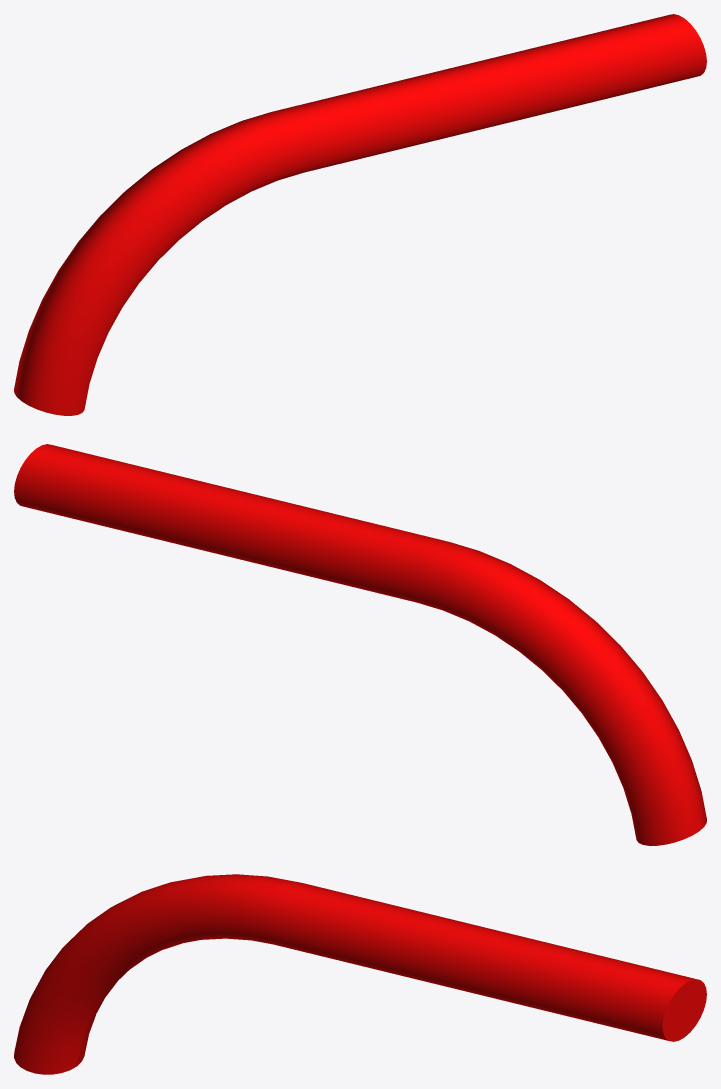
File: original-51.obj
3 views of the same model, one above another, from view 1: azimuth 30°, elevation 25°; view 2: azimuth 150°, elevation 25°; view 3: azimuth 330°, elevation 25° (orthographic).
Visible parts, largest first — view 1: Group37/mesh56/mesh56-geometry#mesh56-geometry; view 2: Group37/mesh56/mesh56-geometry#mesh56-geometry; view 3: Group37/mesh56/mesh56-geometry#mesh56-geometry.
Part boxes in pixels (left/top/right/bottom): Group37/mesh56/mesh56-geometry#mesh56-geometry: left=14, top=14, right=706, bottom=415; Group37/mesh56/mesh56-geometry#mesh56-geometry: left=14, top=444, right=706, bottom=845; Group37/mesh56/mesh56-geometry#mesh56-geometry: left=14, top=874, right=706, bottom=1074.
Size of the model in its own units: 0.1326 by 0.0442 by 0.0154.
